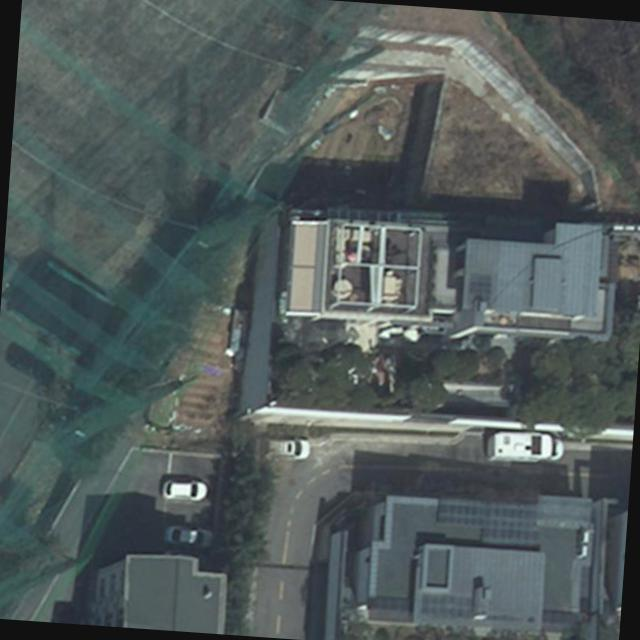solar: (433, 494, 541, 546), (421, 592, 478, 620)
